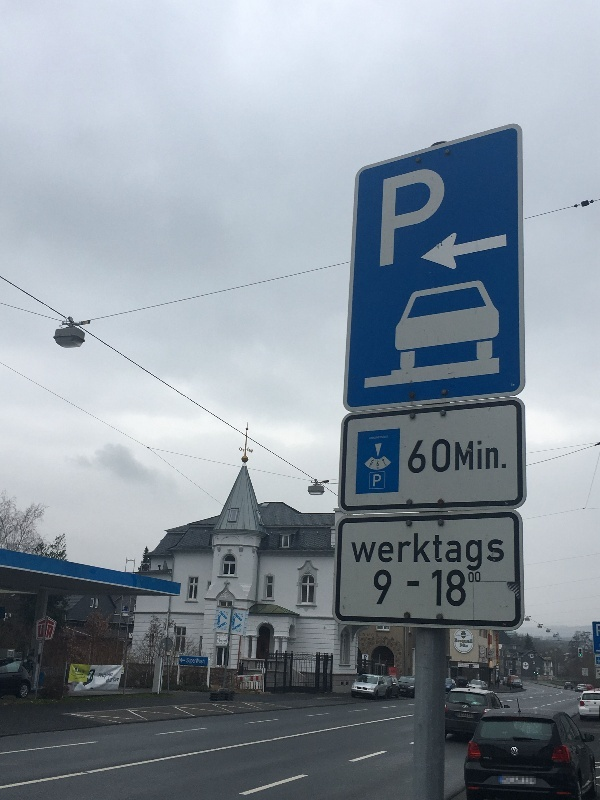text: (385, 164, 400, 267), (401, 164, 416, 267), (417, 164, 432, 267), (433, 164, 446, 267), (353, 530, 368, 572), (369, 530, 384, 572), (385, 530, 400, 572), (401, 530, 416, 572), (417, 530, 432, 572), (433, 530, 448, 572), (449, 530, 464, 572), (465, 530, 480, 572), (481, 530, 496, 572), (433, 568, 448, 607), (449, 568, 464, 607), (417, 437, 432, 474), (433, 437, 448, 474), (465, 438, 480, 472), (481, 438, 496, 472), (374, 570, 384, 605), (455, 438, 464, 472), (497, 438, 506, 472), (497, 530, 504, 572), (385, 570, 392, 605), (49, 624, 64, 638), (411, 437, 416, 474), (469, 572, 480, 583), (374, 475, 384, 487), (39, 624, 48, 635), (370, 460, 384, 466), (193, 658, 205, 665), (99, 673, 112, 679), (449, 437, 451, 474), (370, 435, 384, 440), (483, 658, 496, 663), (234, 617, 240, 627), (232, 624, 240, 631), (219, 615, 224, 626), (455, 638, 464, 644), (243, 449, 256, 453), (497, 633, 499, 659), (113, 677, 120, 684), (408, 581, 416, 587), (465, 638, 473, 644), (484, 757, 496, 761), (596, 624, 600, 636), (377, 461, 384, 467), (218, 622, 224, 629), (351, 530, 352, 572), (236, 612, 240, 622), (465, 713, 473, 718), (465, 568, 466, 607), (107, 677, 112, 684), (187, 658, 192, 665), (248, 448, 256, 452), (221, 611, 224, 621), (225, 611, 228, 621), (249, 450, 256, 454), (473, 664, 480, 668), (503, 623, 512, 626), (459, 713, 464, 718), (458, 663, 464, 667), (489, 650, 496, 653), (241, 612, 243, 622), (460, 644, 464, 648), (465, 663, 469, 667), (385, 435, 388, 440), (481, 652, 484, 657), (225, 622, 227, 629), (489, 656, 496, 658), (417, 581, 419, 587), (365, 655, 368, 659), (465, 644, 468, 648), (597, 670, 600, 673), (241, 624, 242, 631), (113, 673, 114, 679), (241, 447, 242, 451)
